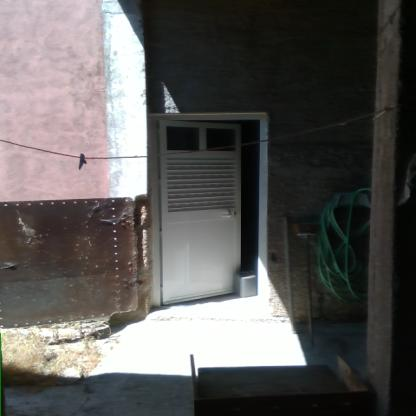semi: (138, 102, 277, 324)
